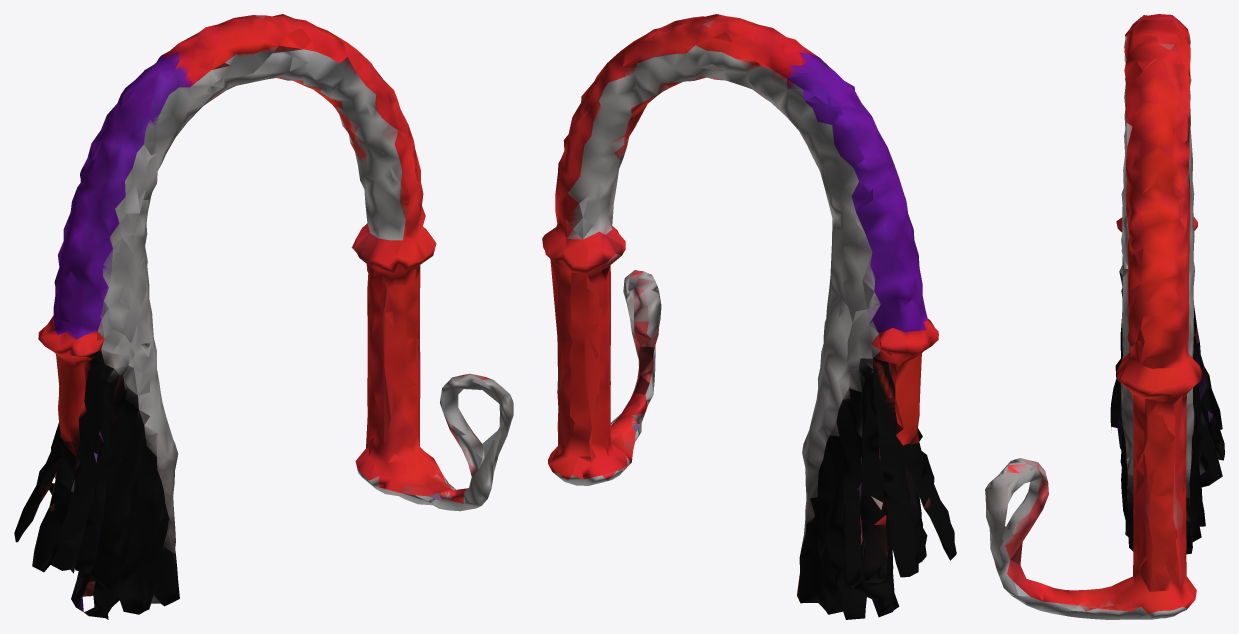
File: whip.glb
3 renders of one model, left to right at view 1: azimuth 30°, elevation 25°; view 2: azimuth 150°, elevation 25°; view 3: azimuth 270°, elevation 25°, orthographic. The views are drawn at different scales.
Parts seen in each view (by area): view 1: texture_pbr_v128; view 2: texture_pbr_v128; view 3: texture_pbr_v128.
Part boxes in pixels (<box>): texture_pbr_v128: <box>14,14,513,619</box>; texture_pbr_v128: <box>542,14,956,619</box>; texture_pbr_v128: <box>985,14,1224,619</box>.
Size of the model in its own units: 0.5829 by 0.7645 by 0.2936.
Materials: 1 (1 with a texture image).
